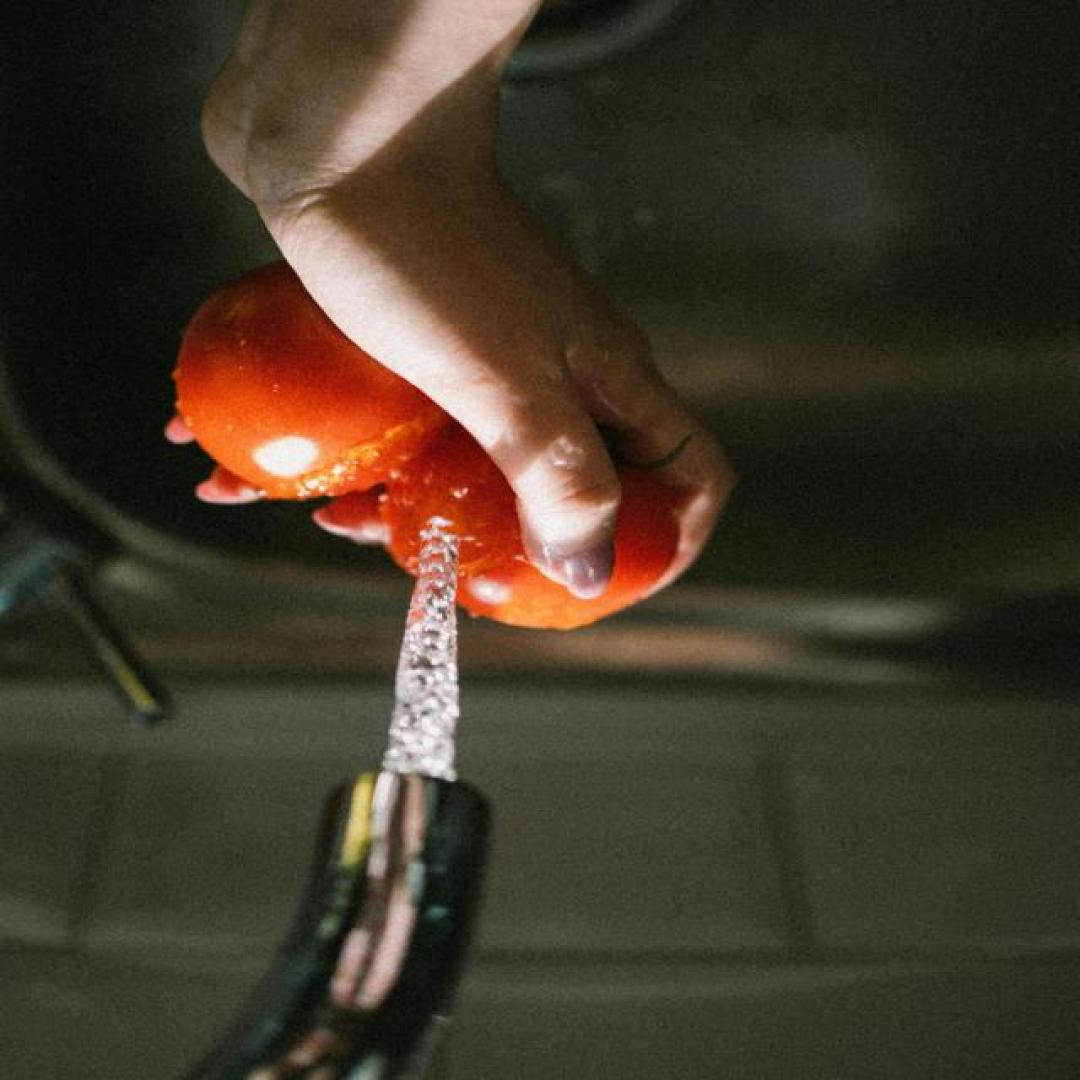matang: (175, 258, 454, 493), (390, 415, 685, 630)
